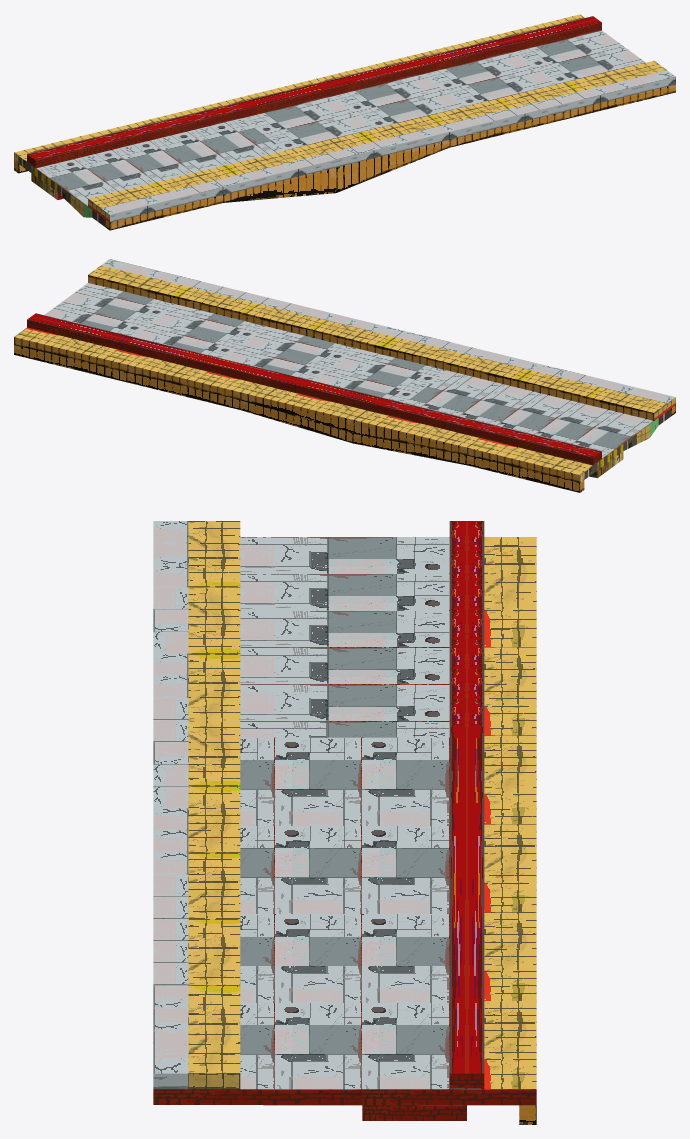
File: sfRoadFlat2.gltf
3 renders of one model, top to bottom at view 1: azimuth 30°, elevation 25°; view 2: azimuth 150°, elevation 25°; view 3: azimuth 270°, elevation 25°, orthographic. The views are drawn at different scales.
Parts seen in each view (by area): view 1: sfRoadFlat2; view 2: sfRoadFlat2; view 3: sfRoadFlat2.
Part boxes in pixels (left/top/right/bottom): sfRoadFlat2: left=14, top=14, right=675, bottom=230; sfRoadFlat2: left=14, top=259, right=675, bottom=492; sfRoadFlat2: left=153, top=521, right=536, bottom=1124.
Bounding box in the file's own units: 75 × 4.75 × 22.
Materials: 3 (3 with a texture image).
